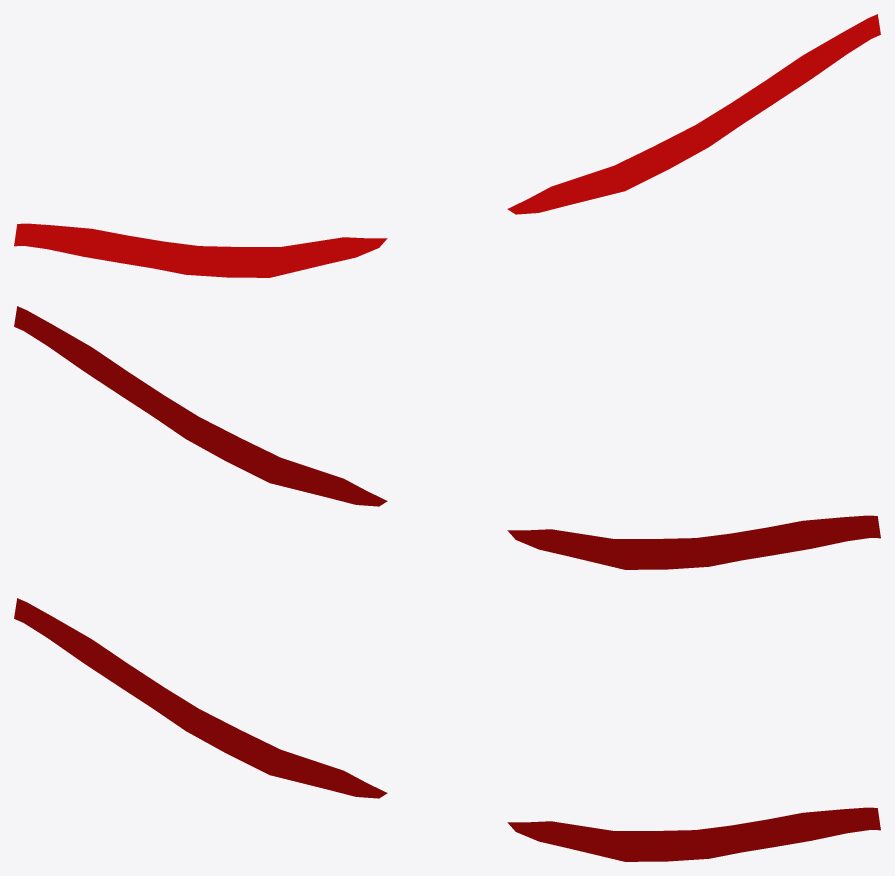
The model's file is frame146.fbx.
The picture shows the model from 3 angles, top to bottom: view 1: azimuth 30°, elevation 25°; view 2: azimuth 150°, elevation 25°; view 3: azimuth 330°, elevation 25°; orthographic projection.
Parts seen in each view (by area): view 1: MaterialLayer; view 2: MaterialLayer; view 3: MaterialLayer.
Part boxes in pixels (x1,y1,x2,y2): MaterialLayer: (14, 14, 880, 277); MaterialLayer: (14, 306, 880, 569); MaterialLayer: (14, 598, 880, 861).
Size of the model in its own units: 1467 by 188 by 0.
